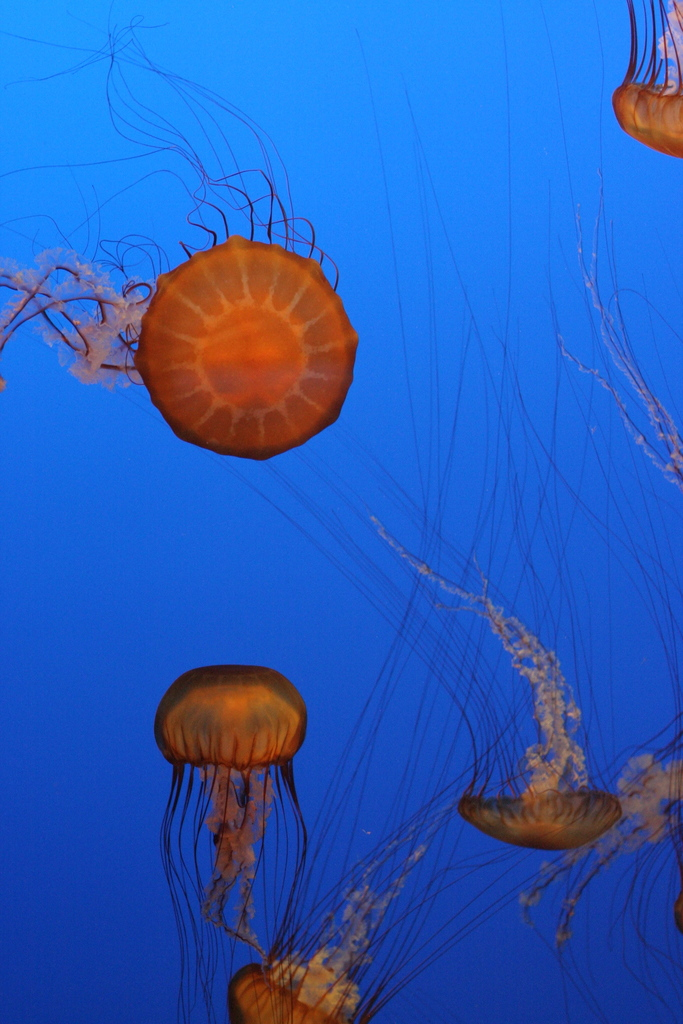Jellyfish: (218, 119, 636, 1008), (186, 371, 612, 852), (0, 0, 354, 456), (160, 666, 317, 1018), (515, 721, 682, 1022), (606, 0, 682, 160)
